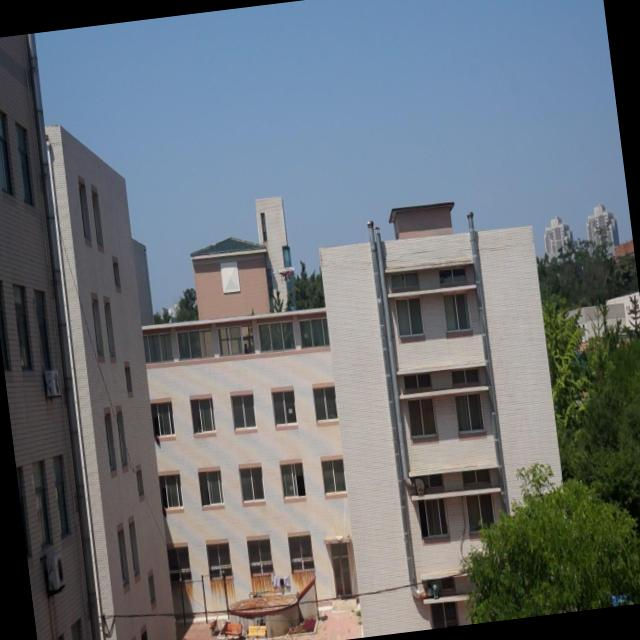drone: (276, 264, 296, 284)
